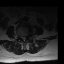CCS_normal: (23, 35, 25, 42)
LFS_severe_stenosis: (26, 34, 28, 39)
LLS_stenosis: (25, 35, 26, 39)
RFS_stenosis: (19, 35, 21, 39)
RLS_stenosis: (21, 35, 23, 40)
